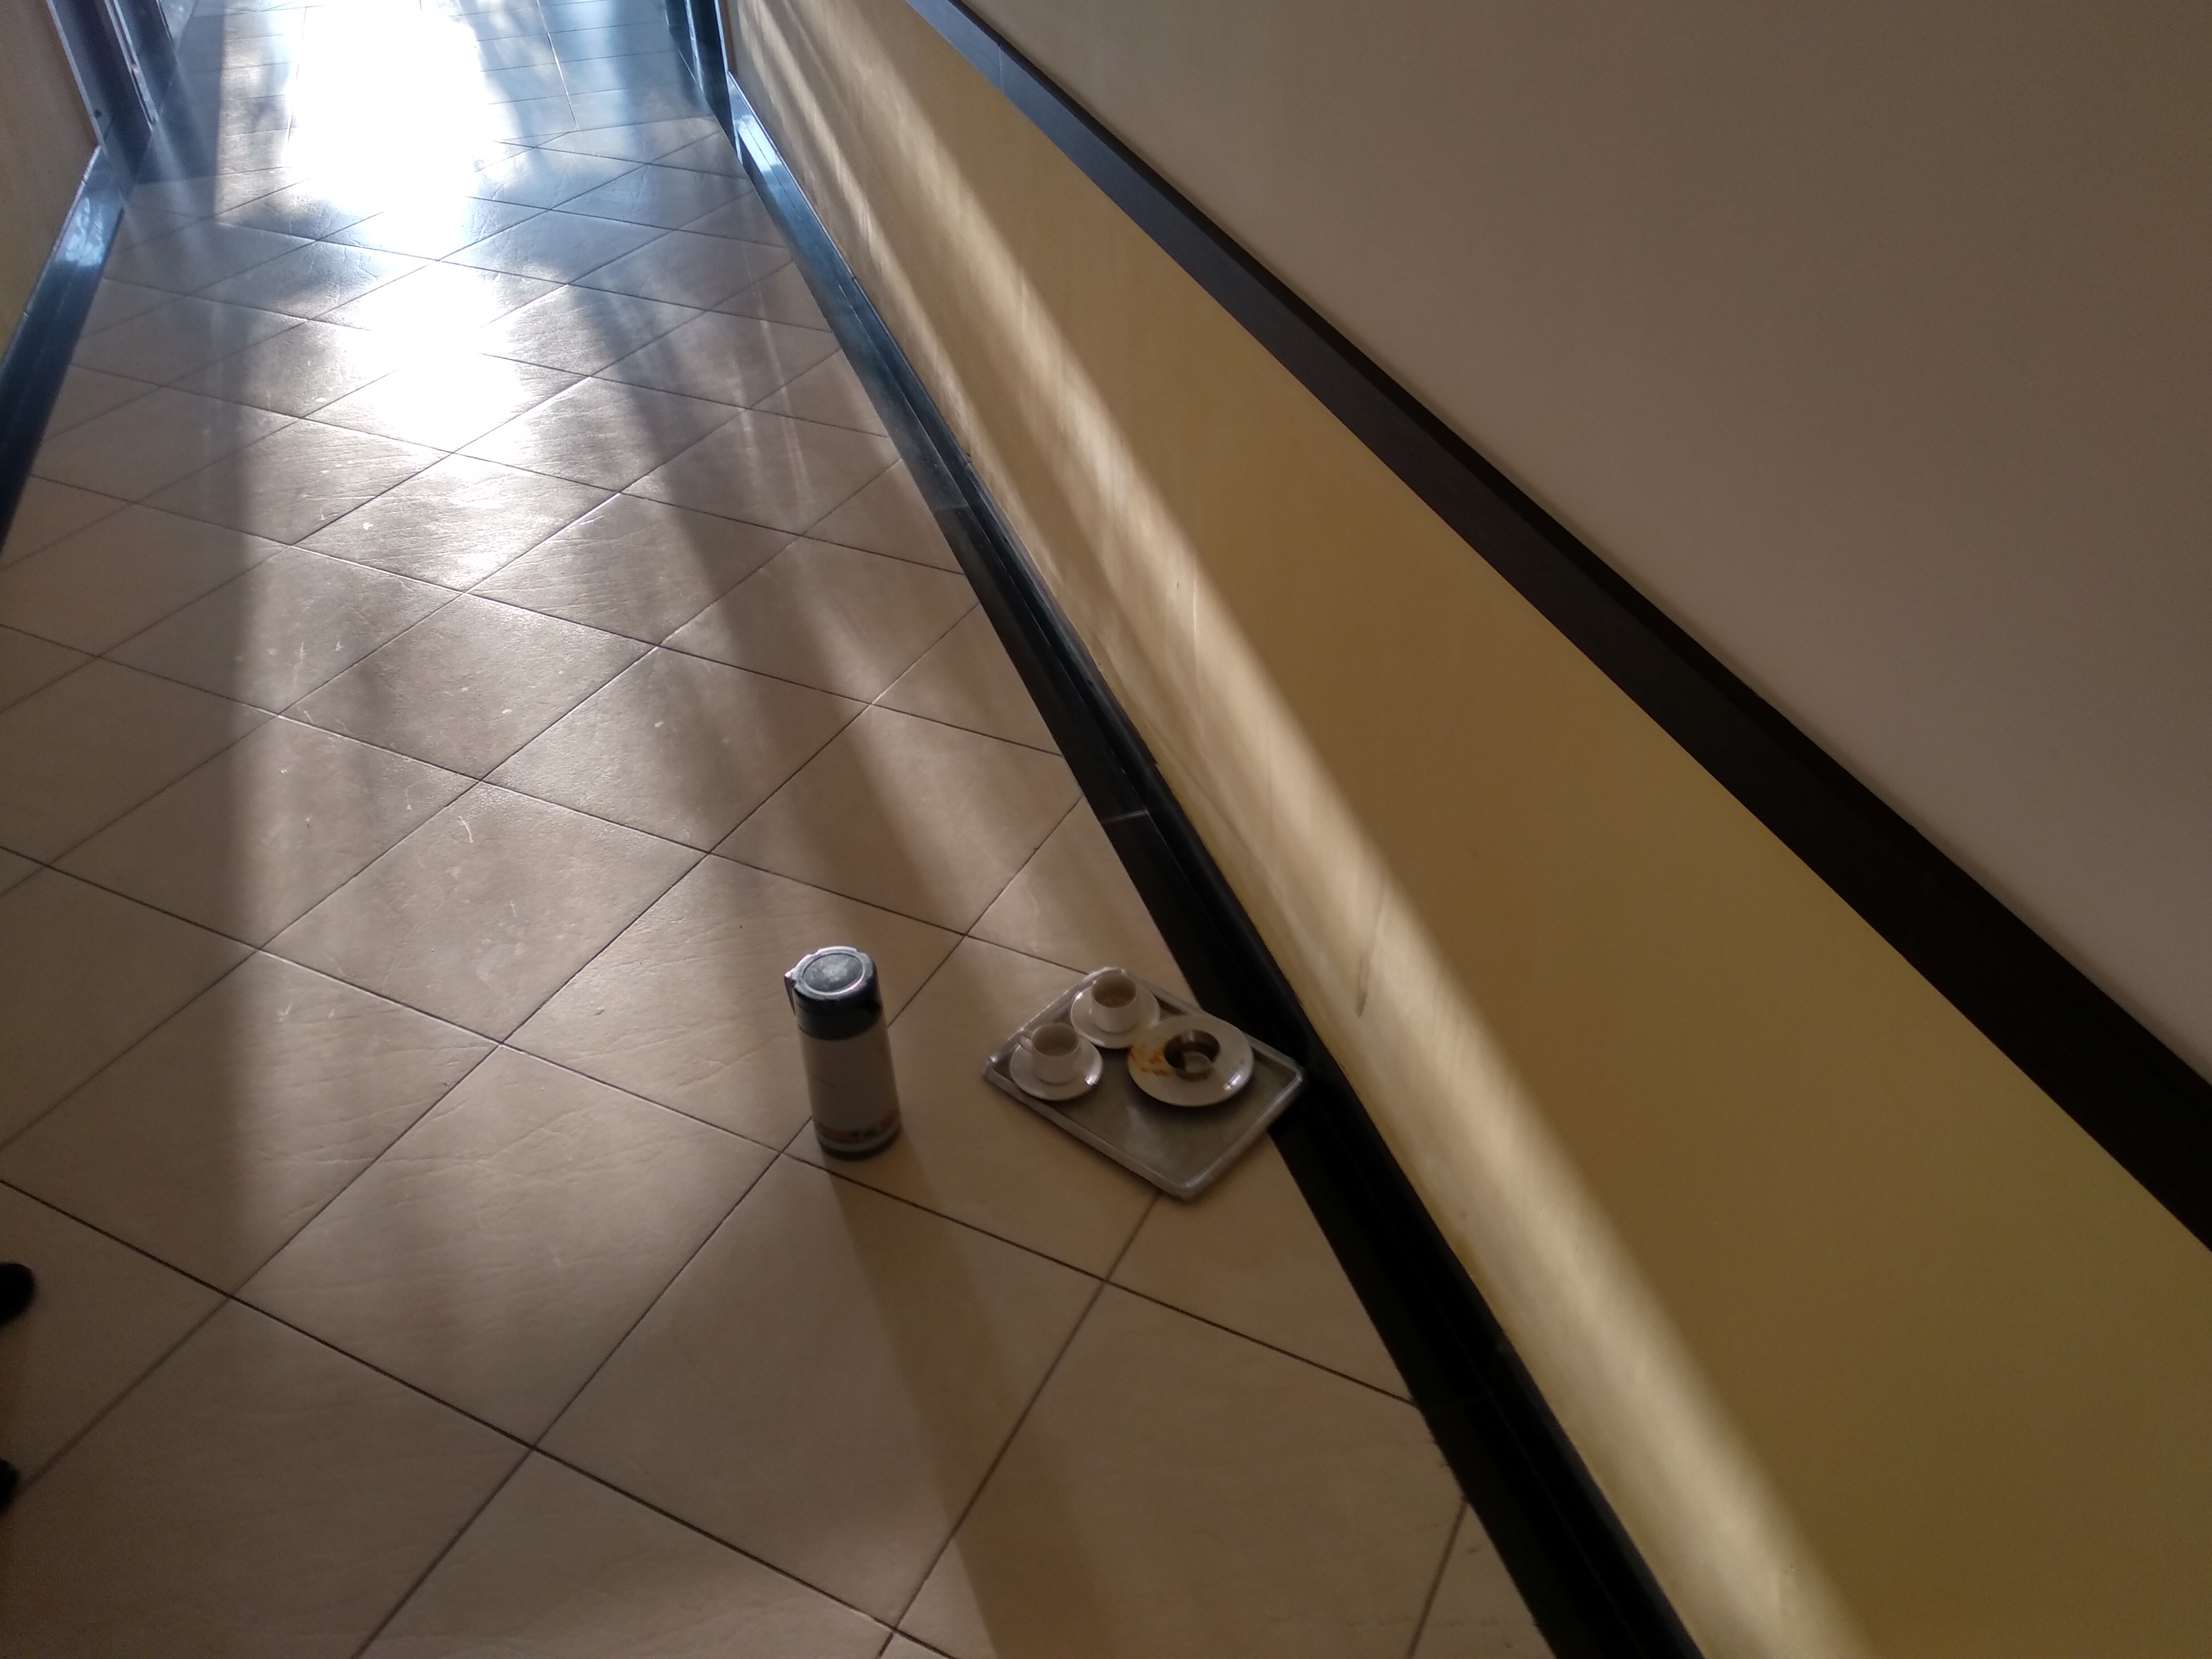CUP: (1012, 1014, 1092, 1101), (1071, 969, 1157, 1037), (1158, 1032, 1224, 1077)
JUG: (777, 941, 916, 1161)
